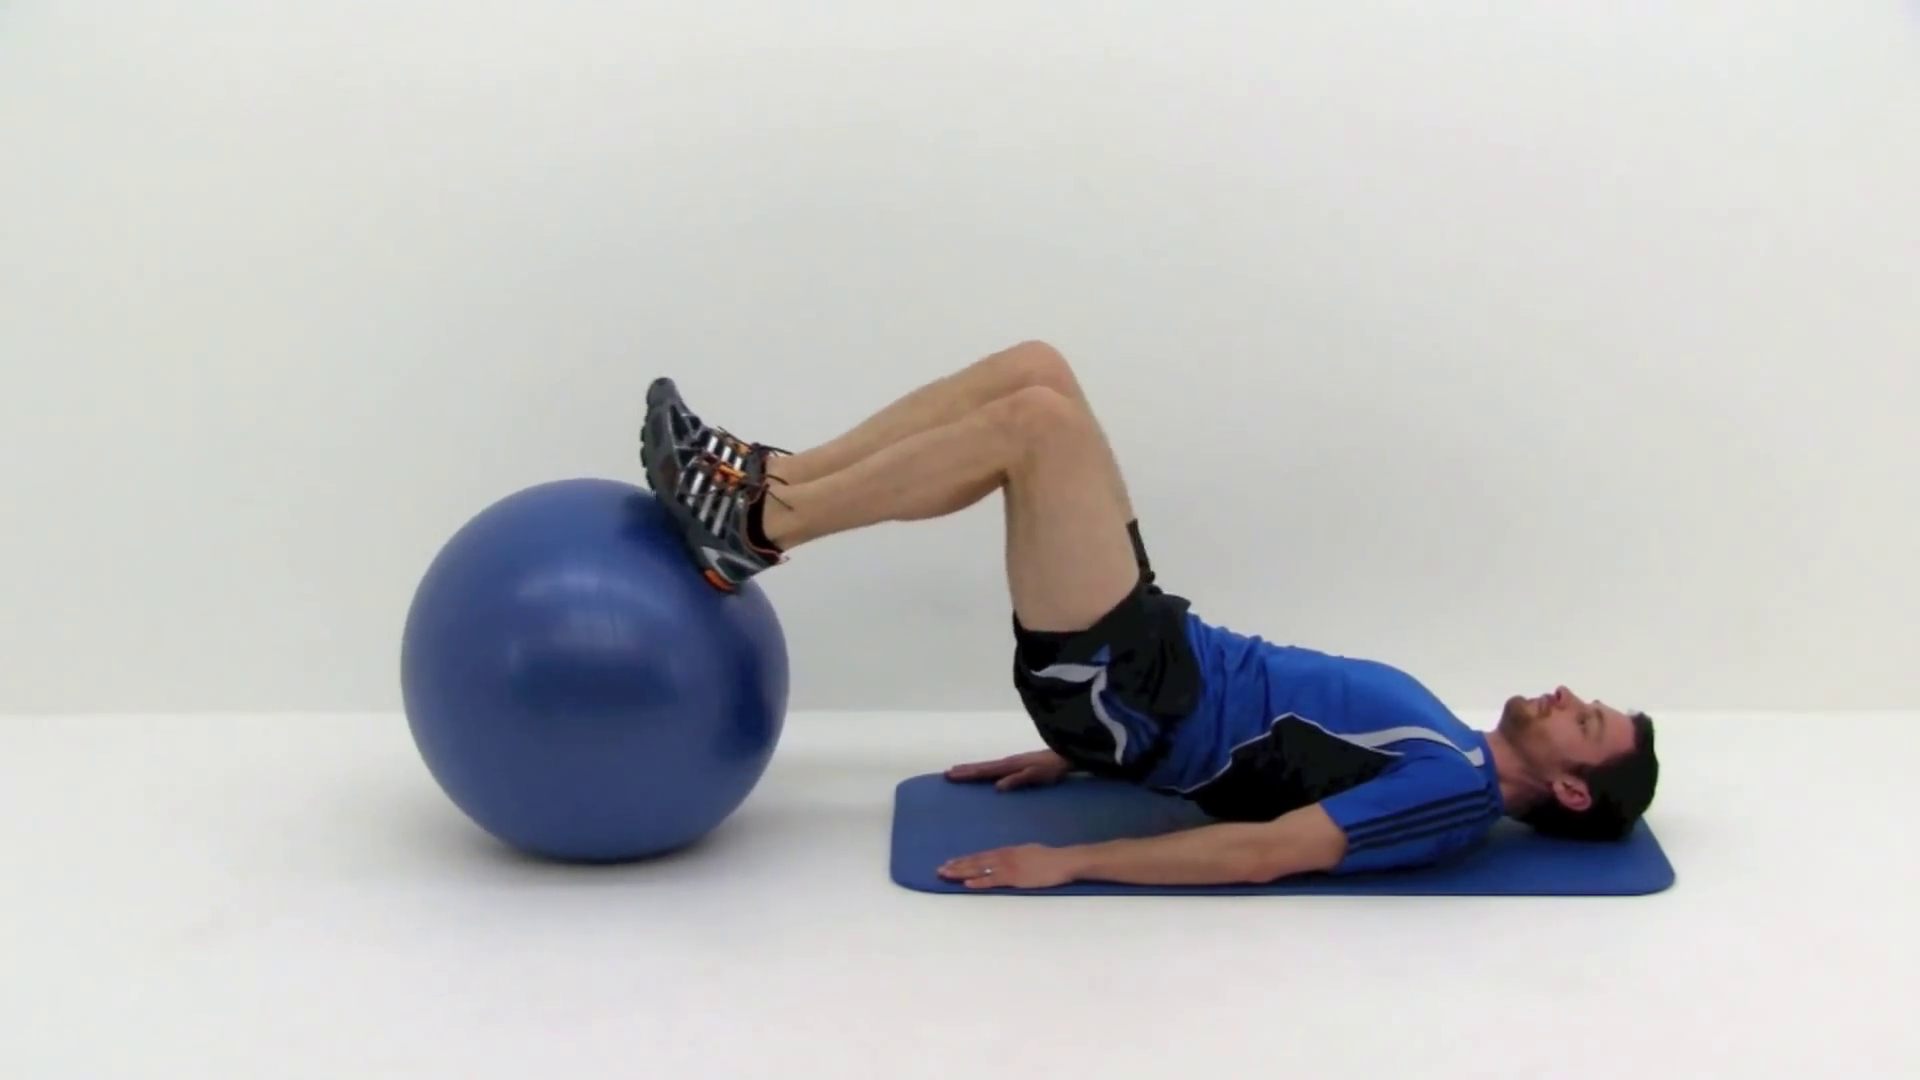yogaball: (363, 469, 816, 881)
